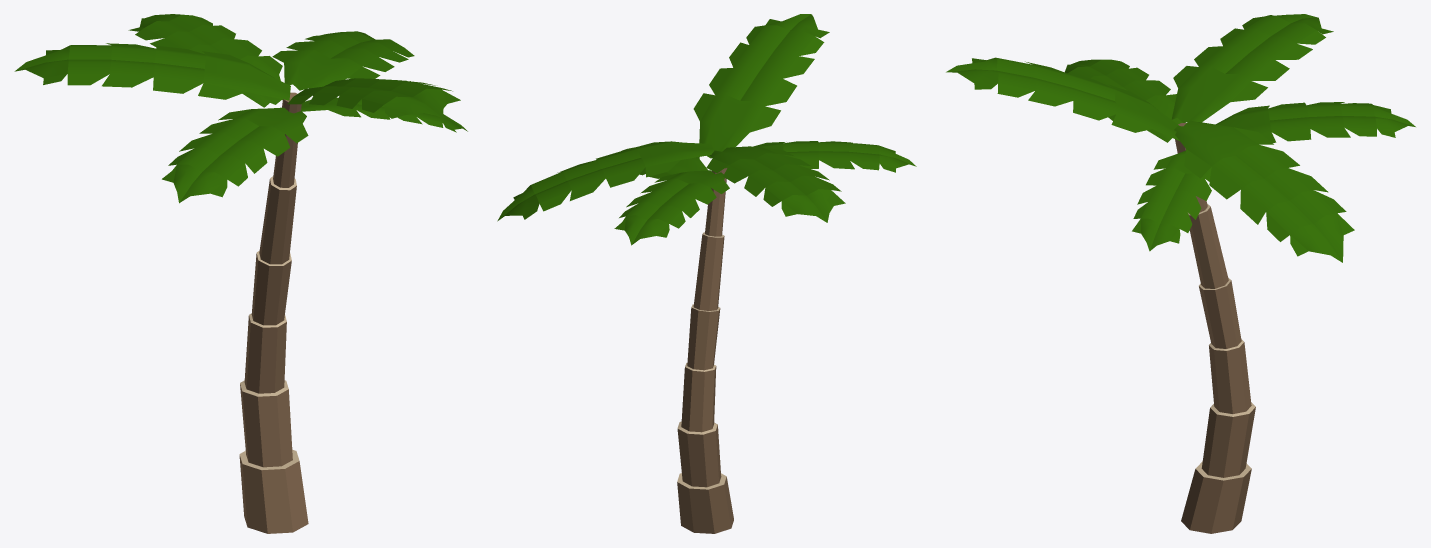
Rendered from Palmier_2.fbx.
3 renders of one model, left to right at view 1: azimuth 30°, elevation 25°; view 2: azimuth 150°, elevation 25°; view 3: azimuth 270°, elevation 25°, orthographic. The views are drawn at different scales.
Visible parts, largest first — view 1: Palmier_Petit; view 2: Palmier_Petit; view 3: Palmier_Petit.
Part boxes in pixels (x1,y1,x2,y2): Palmier_Petit: [14, 14, 467, 533]; Palmier_Petit: [497, 14, 916, 533]; Palmier_Petit: [946, 14, 1415, 533].
Size of the model in its own units: 179 by 223 by 205.
